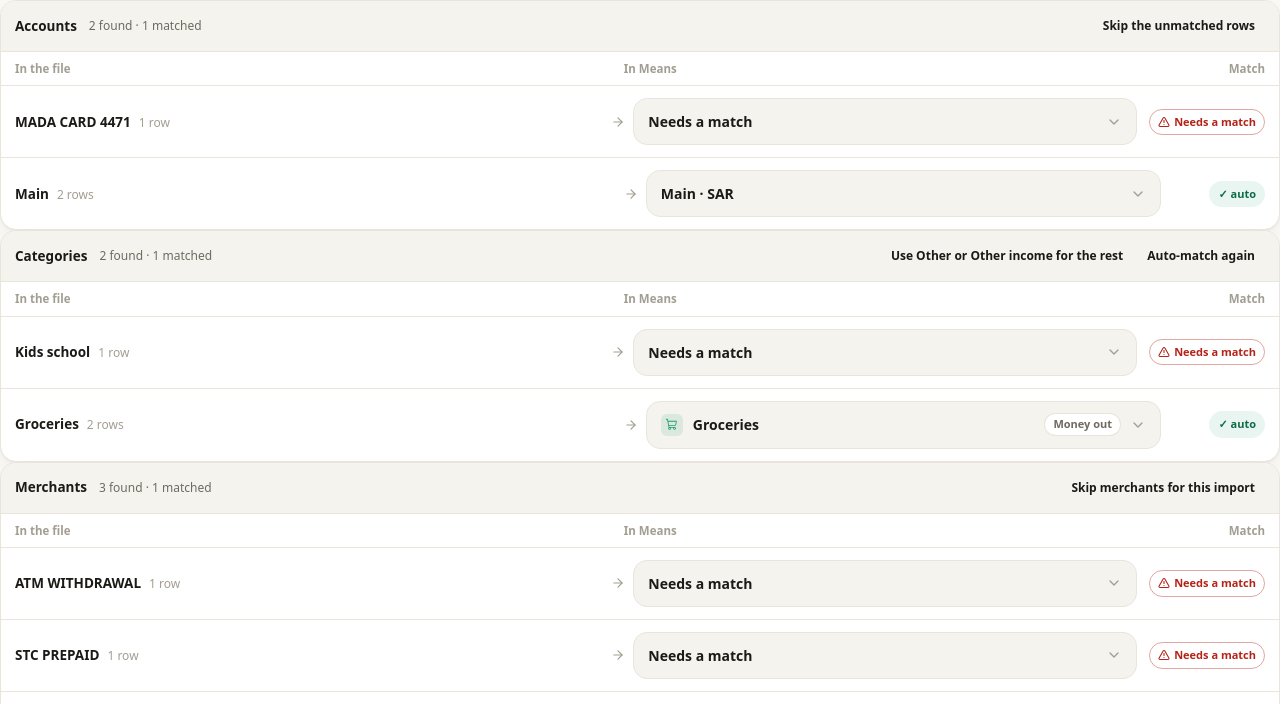
Scenario: ValueMappingStep › skipping merchants leaves the description in the note
Click the button "Skip merchants for this import" at {"x": 1163, "y": 488}, box top-left (1061, 472), bottom-right (1265, 502)
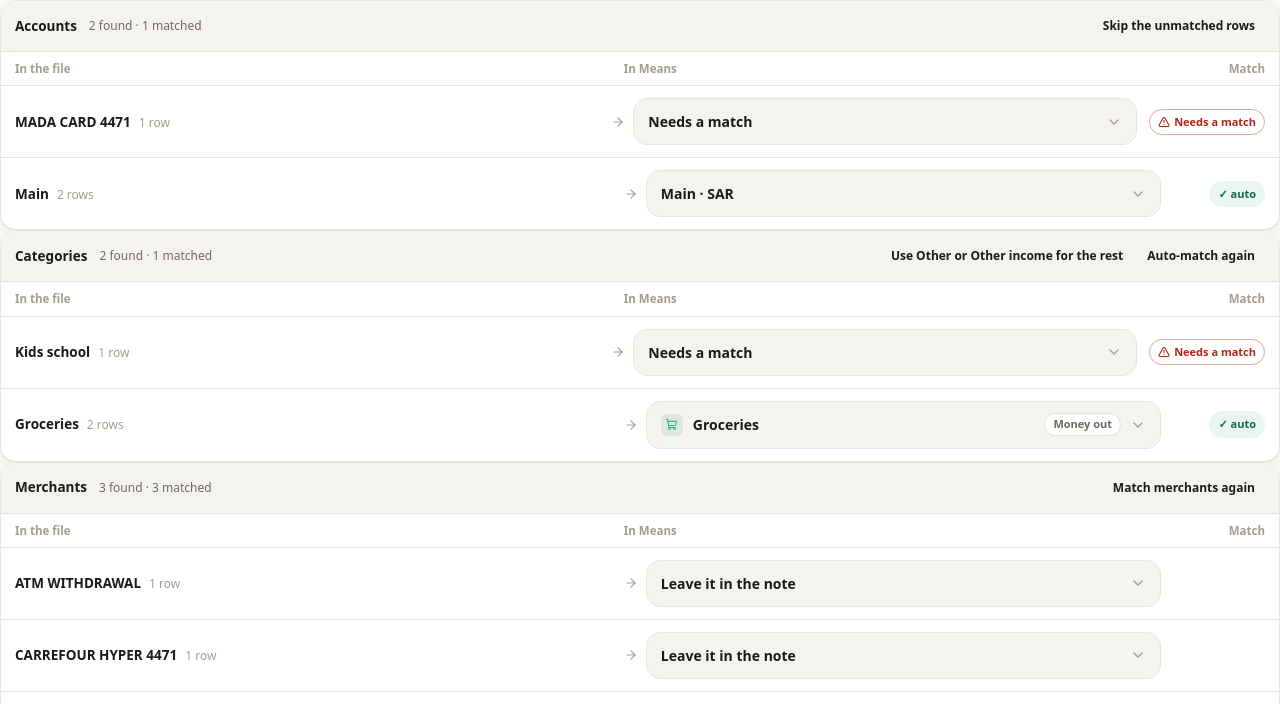
Expected: the button "Match merchants again" is shown, top-left (1103, 472), bottom-right (1265, 502)
